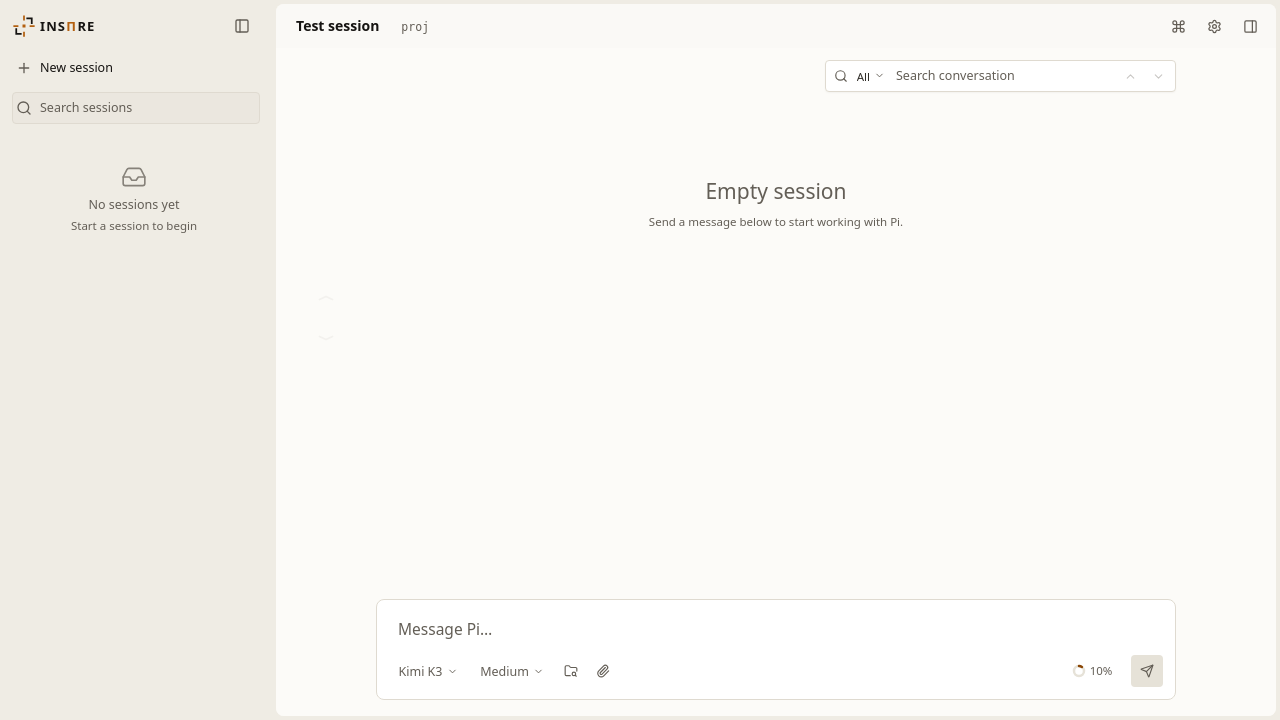
Scenario: workbench keyboard ownership › cycles from the draft and exposes matching hints on Win32
Press m in the text box labelled "Message", box [393, 616, 1159, 643]
Press p in the text box labelled "Message", box [393, 616, 1159, 643]
Press r in the text box labelled "Message", box [393, 616, 1159, 643]
Click the button named "Open command palette" at [1178, 26], box [1164, 12, 1192, 40]
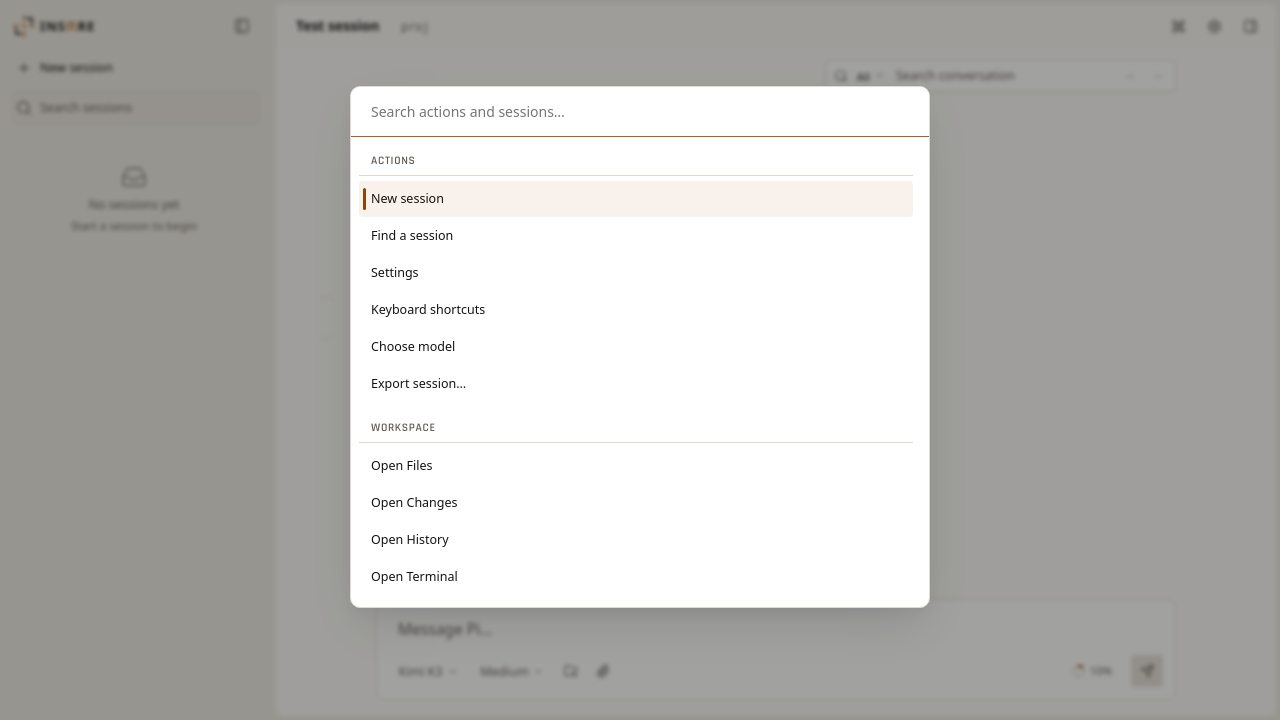
Type "Next model" into the dropdown named "Filter commands" at [640, 112], box [351, 87, 929, 137]
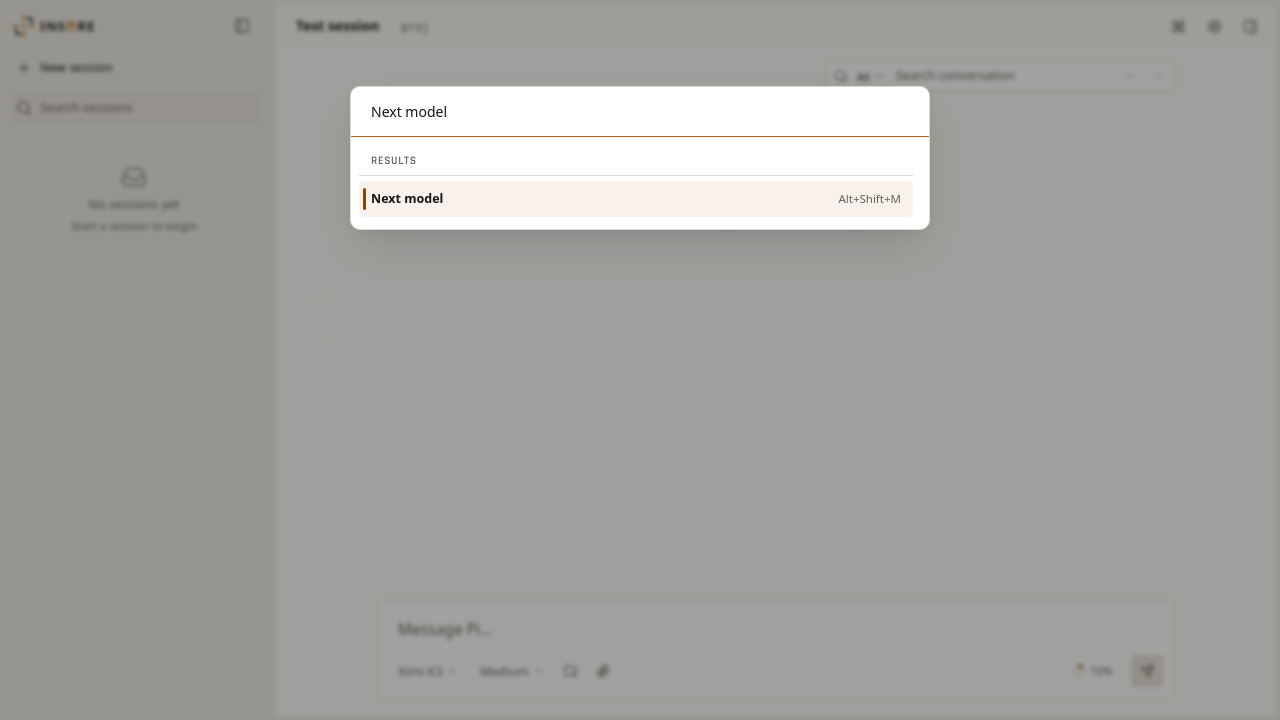
Check: the option "Next model Alt+Shift+M" is shown, box [359, 181, 913, 217]
